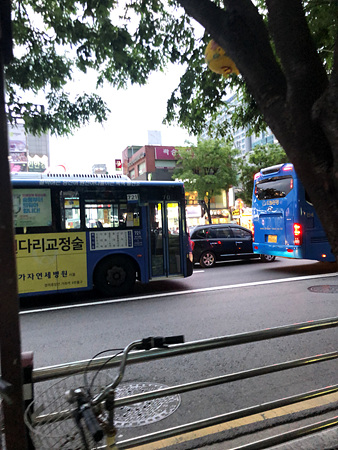entrance: (145, 198, 184, 279)
